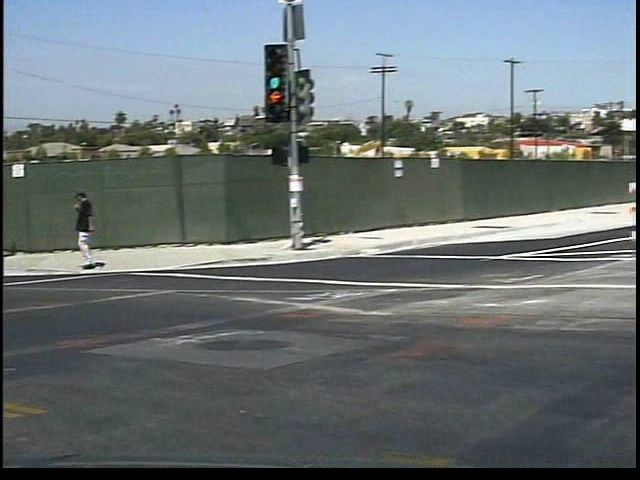person: (58, 186, 100, 281)
